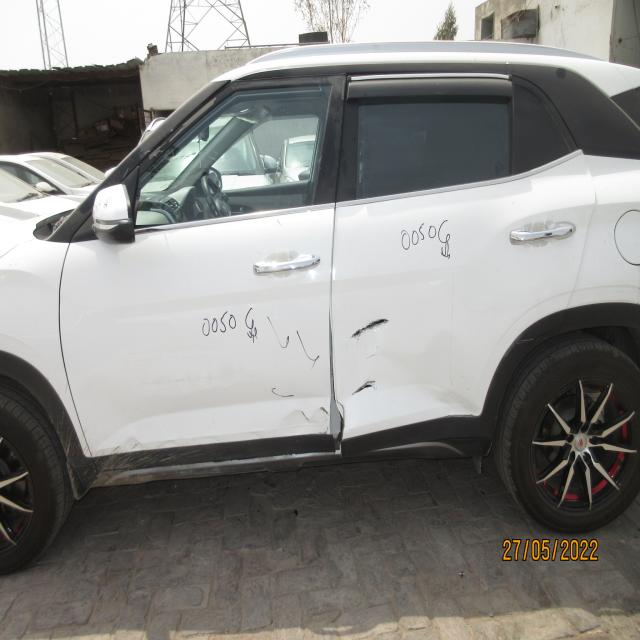damage: (332, 291, 487, 441), (271, 397, 340, 449), (113, 433, 144, 457)
